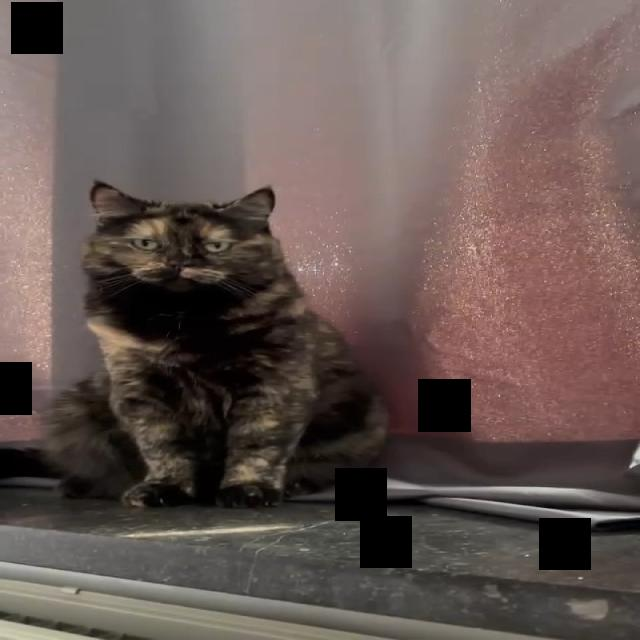authorized: (38, 179, 390, 509)
